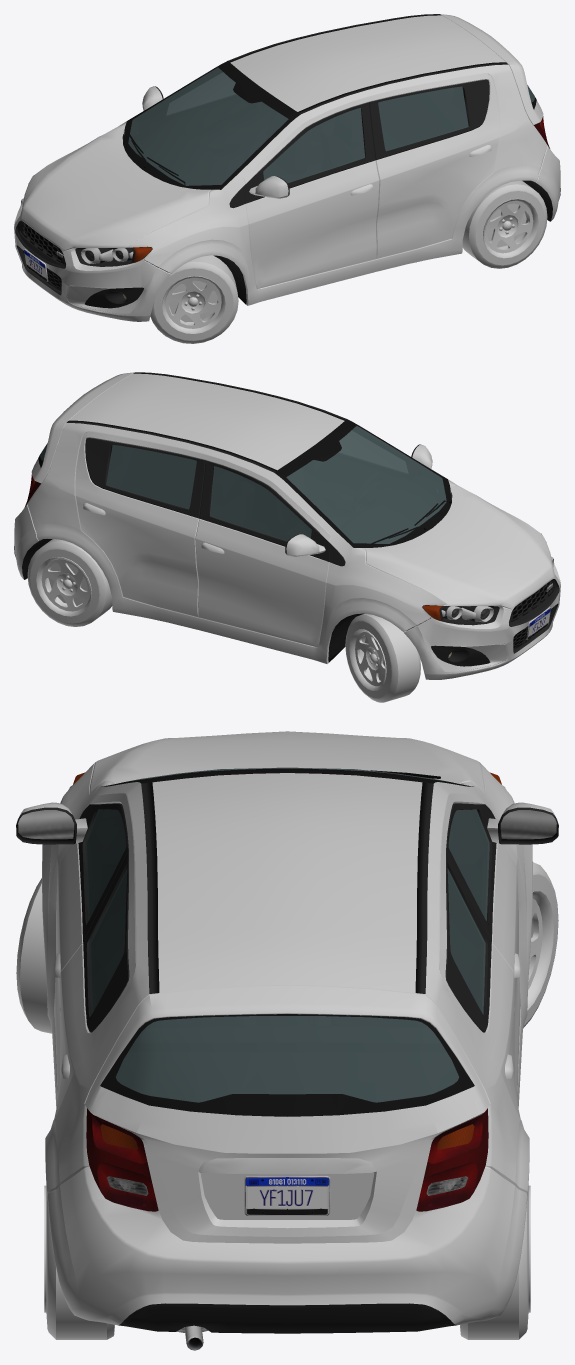
File: MODERNHATCH.fbx
3 renders of one model, top to bottom at view 1: azimuth 30°, elevation 25°; view 2: azimuth 150°, elevation 25°; view 3: azimuth 270°, elevation 25°, orthographic. The views are drawn at different scales.
Parts seen in each view (by area): view 1: Ace11_Body, Ace11_Interior, Ace11_Hood, Ace11_Windshield, Ace11_Bottom, Ace11_Glass_Body, Ace11_Wheel_FL, Ace11_Wheel_RL, Ace11_Bumper_Front, Ace11_Bumper_Front_Inner; view 2: Ace11_Body, Ace11_Interior, Ace11_Hood, Ace11_Bottom, Ace11_Windshield, Ace11_Glass_Body, Ace11_Wheel_RR, Ace11_Wheel_FR, Ace11_Bumper_Front, Ace11_Bumper_Front_Inner; view 3: Ace11_Body, Ace11_Bottom, Ace11_Interior, Ace11_Glass_Rear, Ace11_Hood, Ace11_Glass_Body, Ace11_Brakelights, Ace11_Numberplate_Rear, Ace11_Wheel_FL, Ace11_Wheel_FR, Ace11_Wheel_RL, Ace11_Wheel_RR (+1 smaller).
Part boxes in pixels (x1,y1,x2,y2): Ace11_Body: [36, 14, 560, 305]; Ace11_Interior: [129, 68, 534, 185]; Ace11_Hood: [20, 127, 210, 251]; Ace11_Windshield: [128, 67, 288, 185]; Ace11_Bottom: [20, 14, 560, 304]; Ace11_Glass_Body: [167, 73, 468, 182]; Ace11_Wheel_FL: [150, 255, 238, 343]; Ace11_Wheel_RL: [462, 180, 547, 268]; Ace11_Bumper_Front: [14, 206, 171, 321]; Ace11_Bumper_Front_Inner: [15, 220, 167, 308]; Ace11_Body: [14, 372, 520, 663]; Ace11_Interior: [40, 426, 445, 543]; Ace11_Hood: [364, 485, 554, 609]; Ace11_Bottom: [14, 372, 554, 662]; Ace11_Windshield: [286, 426, 446, 543]; Ace11_Glass_Body: [106, 431, 407, 541]; Ace11_Wheel_RR: [27, 539, 112, 626]; Ace11_Wheel_FR: [345, 614, 420, 702]; Ace11_Bumper_Front: [403, 564, 560, 679]; Ace11_Bumper_Front_Inner: [407, 579, 559, 666]; Ace11_Body: [16, 762, 558, 1325]; Ace11_Bottom: [16, 768, 558, 1350]; Ace11_Interior: [87, 809, 487, 1116]; Ace11_Glass_Rear: [116, 1016, 458, 1102]; Ace11_Hood: [90, 731, 484, 793]; Ace11_Glass_Body: [85, 809, 489, 1014]; Ace11_Brakelights: [86, 1108, 488, 1211]; Ace11_Numberplate_Rear: [244, 1176, 330, 1215]; Ace11_Wheel_FL: [16, 878, 52, 1033]; Ace11_Wheel_FR: [523, 862, 558, 1028]; Ace11_Wheel_RL: [44, 1185, 114, 1339]; Ace11_Wheel_RR: [460, 1185, 530, 1339].
Size of the model in its own units: 3.85 by 1.44 by 1.83.
